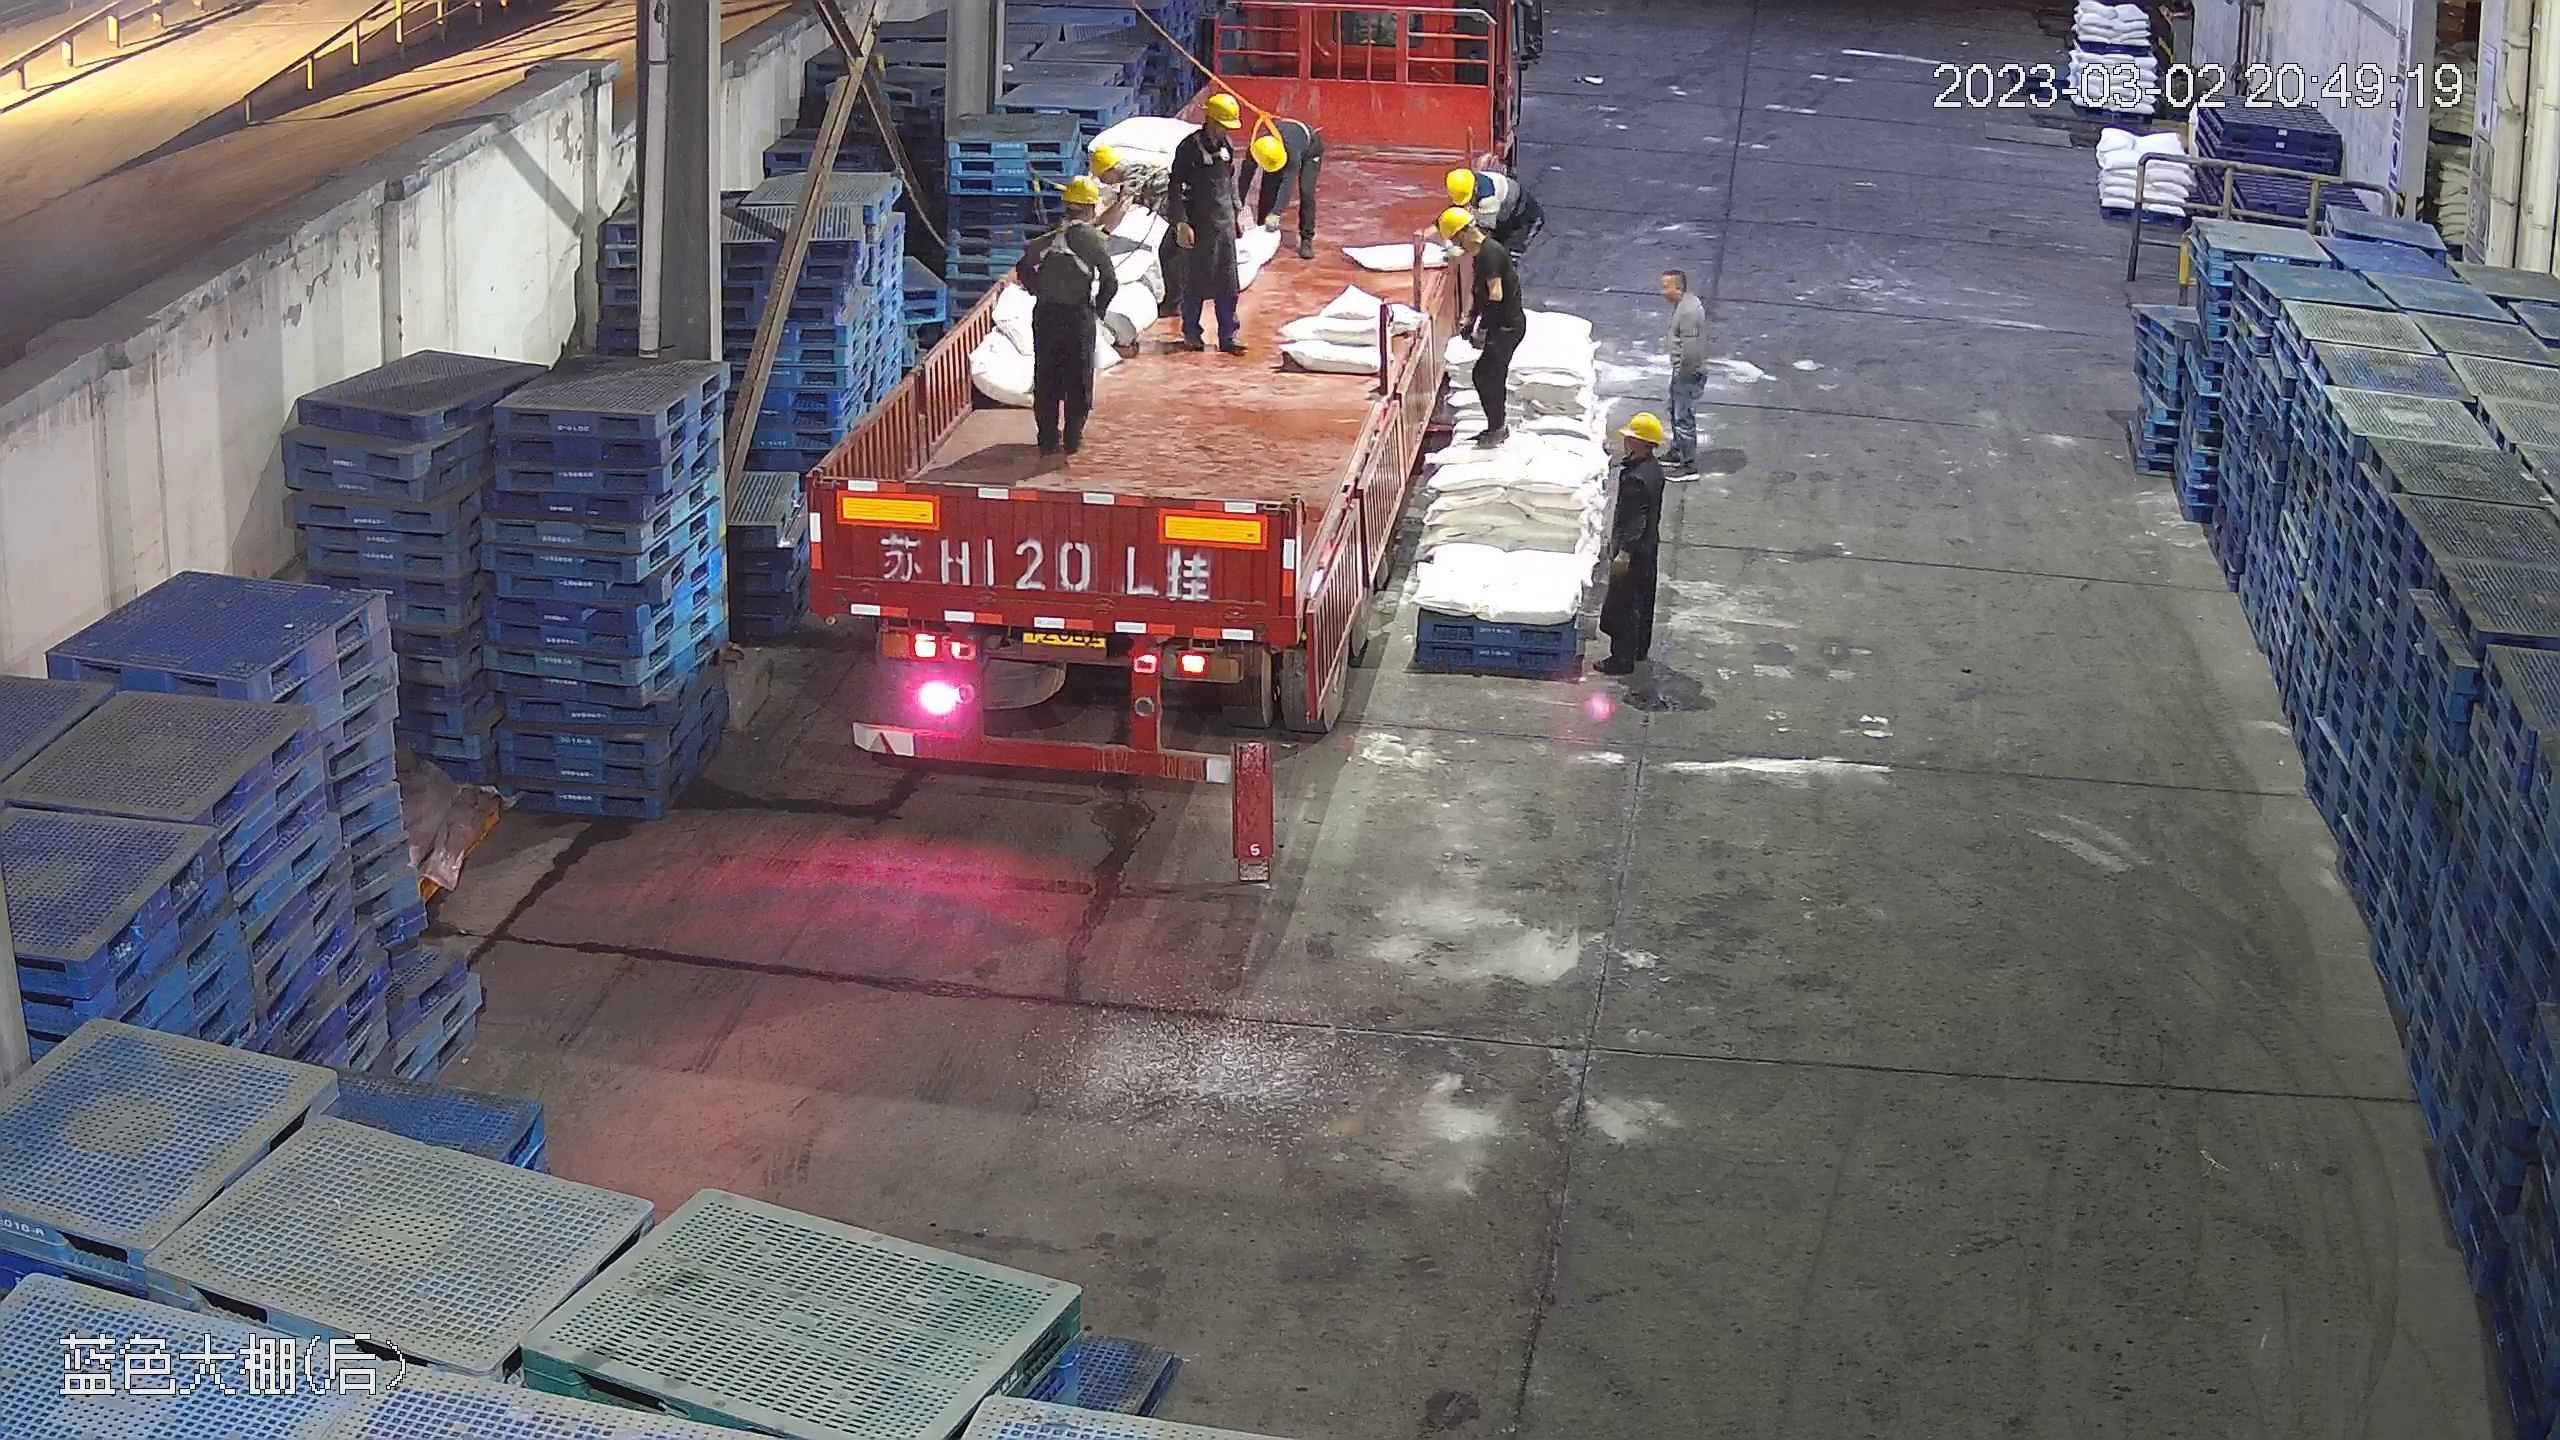belt: (1027, 218, 1097, 276), (1191, 128, 1232, 165), (1248, 109, 1291, 142), (1135, 162, 1168, 183)
head: (1023, 177, 1114, 270), (1165, 92, 1248, 181), (1608, 410, 1673, 504), (1443, 207, 1519, 285), (1246, 111, 1318, 172)
helmet: (1615, 411, 1668, 445), (1056, 173, 1102, 207), (1248, 135, 1287, 173), (1199, 90, 1235, 126), (1446, 166, 1479, 199), (1088, 141, 1123, 172), (1442, 205, 1470, 233)
people: (1014, 176, 1117, 455), (1596, 411, 1693, 697), (1151, 96, 1251, 357), (1448, 210, 1524, 448), (1239, 111, 1323, 262)
truck: (799, 62, 1528, 777)
